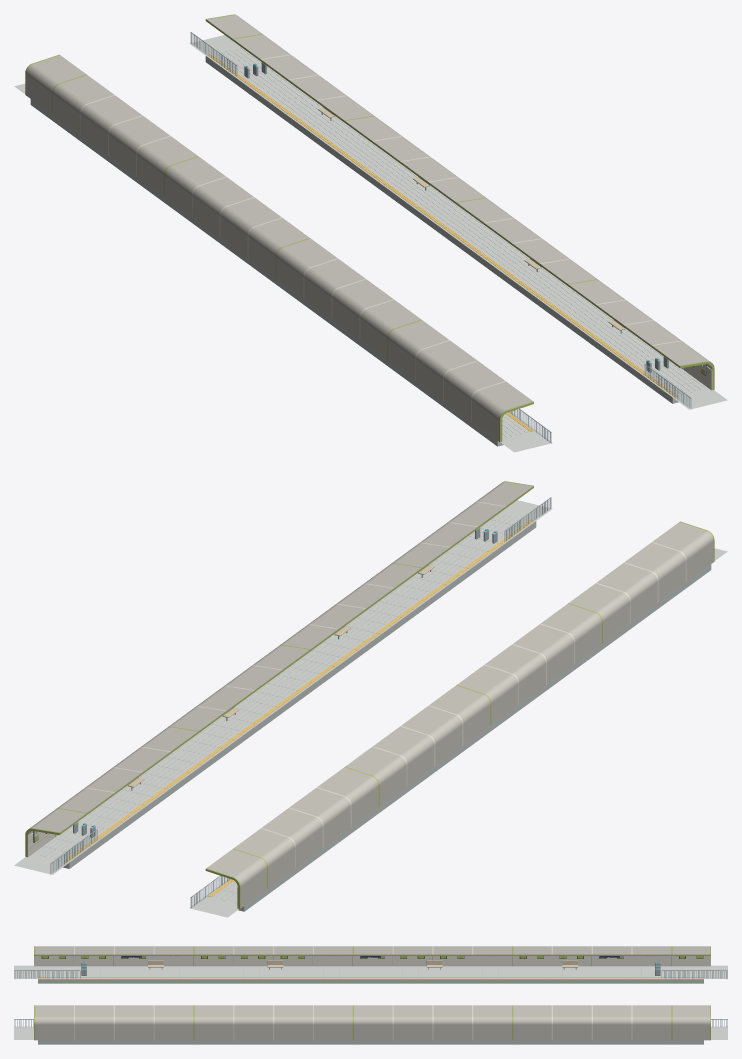
Rendered from station-A7.glb.
3 views of the same model, one above another, from view 1: azimuth 30°, elevation 25°; view 2: azimuth 150°, elevation 25°; view 3: azimuth 270°, elevation 25° (orthographic). The views are drawn at different scales.
Visible parts, largest first — view 1: A7_platform_-1_roof, A7_platform_1_tile, A7_platform_1_roof, A7_platform_1_concrete, A7_platform_-1_concrete, A7_platform_1_yellow, A7_platform_-1_cladding, A7_platform_-1_tile, A7_platform_1_cladding; view 2: A7_platform_-1_roof, A7_platform_1_tile, A7_platform_1_roof, A7_platform_1_concrete, A7_platform_-1_concrete, A7_platform_1_yellow, A7_platform_-1_cladding, A7_platform_-1_tile, A7_platform_1_cladding, A7_platform_-1_accent; view 3: A7_platform_1_roof, A7_platform_-1_tile, A7_platform_-1_cladding, A7_platform_-1_roof, A7_platform_-1_concrete, A7_platform_1_concrete, A7_platform_-1_yellow, A7_platform_1_cladding, A7_platform_-1_accent, A7_platform_-1_sand, A7_platform_1_tile, A7_platform_-1_approach_rail_1_steel (+3 smaller).
Part boxes in pixels (x1,y1,x2,y2): A7_platform_-1_roof: [26, 55, 532, 441]; A7_platform_1_tile: [189, 35, 727, 409]; A7_platform_1_roof: [206, 15, 711, 368]; A7_platform_1_concrete: [205, 56, 678, 403]; A7_platform_-1_concrete: [30, 99, 503, 446]; A7_platform_1_yellow: [208, 54, 704, 396]; A7_platform_-1_cladding: [80, 95, 505, 441]; A7_platform_-1_tile: [14, 83, 552, 452]; A7_platform_1_cladding: [260, 54, 712, 390]; A7_platform_-1_roof: [207, 522, 713, 907]; A7_platform_1_tile: [14, 500, 552, 874]; A7_platform_1_roof: [28, 482, 533, 835]; A7_platform_1_concrete: [63, 521, 536, 868]; A7_platform_-1_concrete: [238, 564, 711, 911]; A7_platform_1_yellow: [35, 519, 533, 861]; A7_platform_-1_cladding: [237, 542, 686, 907]; A7_platform_-1_tile: [189, 548, 727, 917]; A7_platform_1_cladding: [27, 501, 506, 856]; A7_platform_-1_accent: [205, 521, 714, 908]; A7_platform_1_roof: [35, 1005, 709, 1040]; A7_platform_-1_tile: [14, 965, 727, 979]; A7_platform_-1_cladding: [34, 946, 710, 966]; A7_platform_-1_roof: [35, 946, 709, 965]; A7_platform_-1_concrete: [38, 966, 703, 983]; A7_platform_1_concrete: [38, 1040, 703, 1044]; A7_platform_-1_yellow: [38, 977, 703, 978]; A7_platform_1_cladding: [74, 1005, 632, 1040]; A7_platform_-1_accent: [34, 946, 710, 958]; A7_platform_-1_sand: [148, 960, 577, 967]; A7_platform_1_tile: [14, 1026, 727, 1039]; A7_platform_-1_approach_rail_1_steel: [661, 970, 727, 978].
Size of the model in its own units: 22.2 by 3.8 by 89.64.
